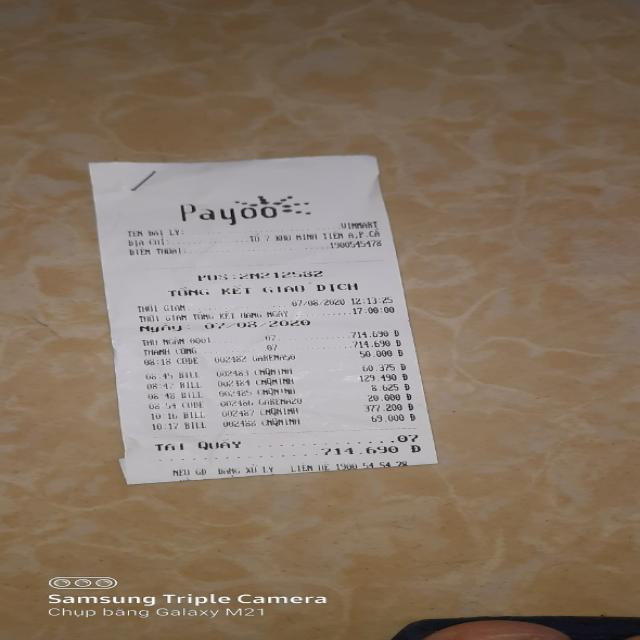Date: (202, 318, 312, 329)
Store_Name: (170, 201, 282, 226)
amount_number: (321, 446, 402, 456)
label_total: (154, 439, 252, 451)
